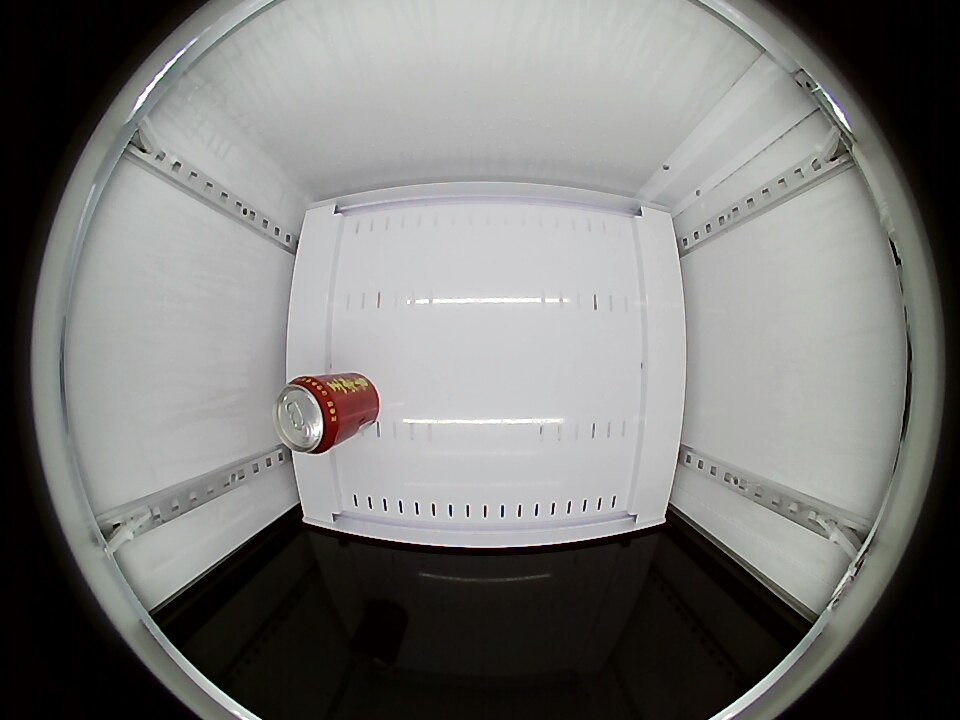wanglaoji-c: (273, 375, 345, 454)
